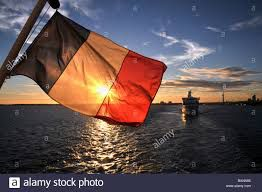French Flag: (7, 10, 168, 131)
